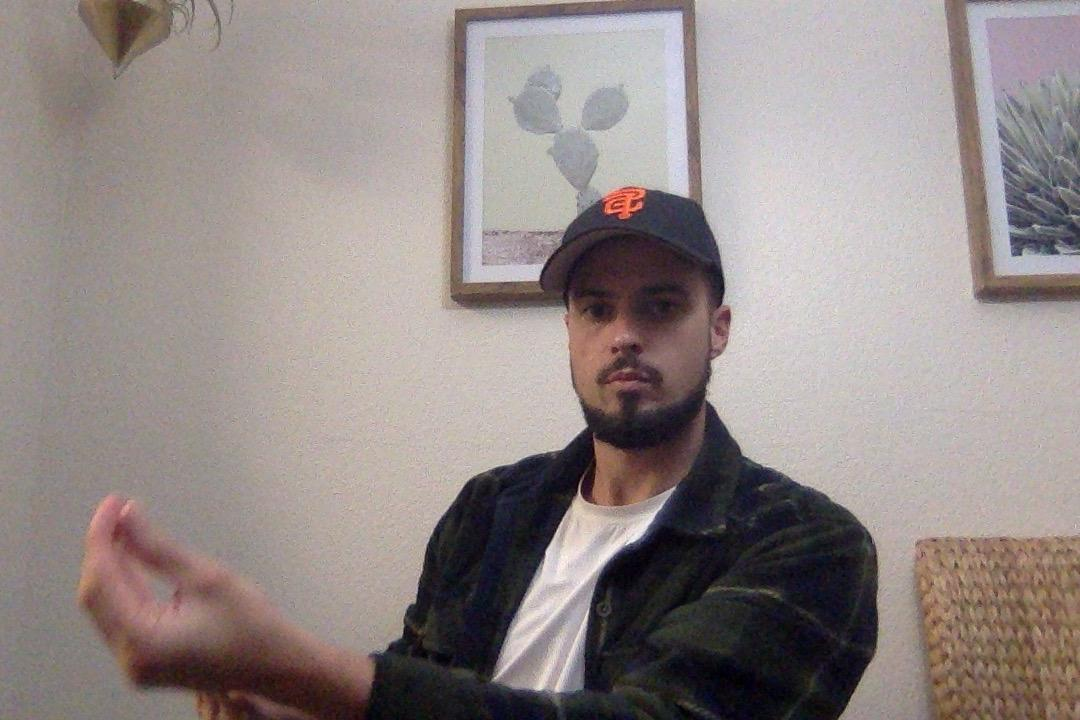Italian-Gesture: (64, 485, 288, 701)
